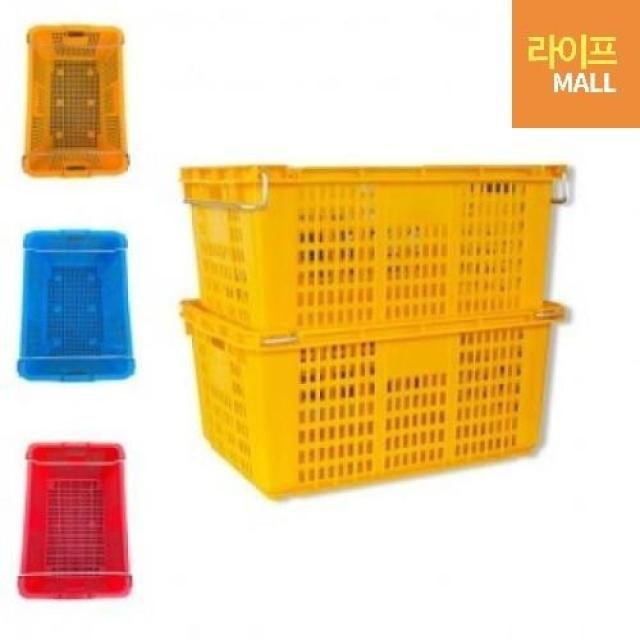basket: (181, 302, 566, 498), (182, 163, 570, 334), (18, 230, 137, 382), (18, 444, 132, 600), (23, 25, 131, 177)
